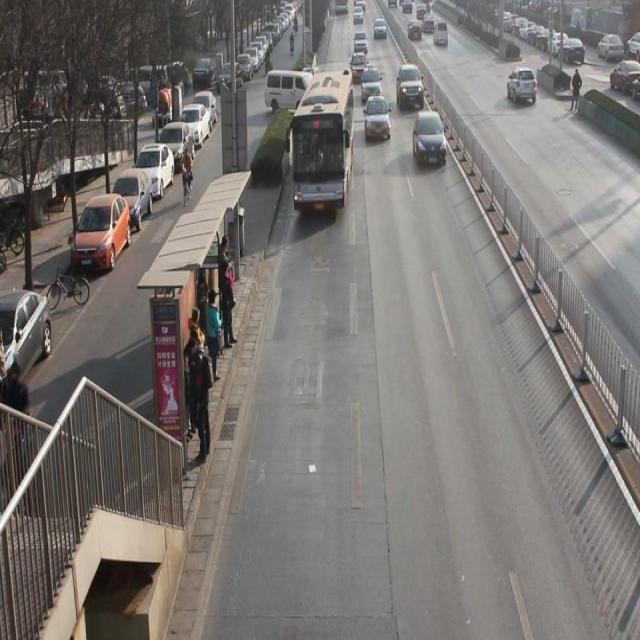car: (415, 116, 447, 168), (507, 65, 538, 108), (396, 65, 422, 110), (360, 70, 380, 102), (350, 52, 369, 84), (304, 65, 320, 93), (353, 33, 367, 55), (408, 19, 421, 41), (373, 19, 387, 39)
truck: (364, 98, 389, 142), (292, 74, 311, 110), (433, 22, 449, 49)
van: (291, 71, 352, 209)
